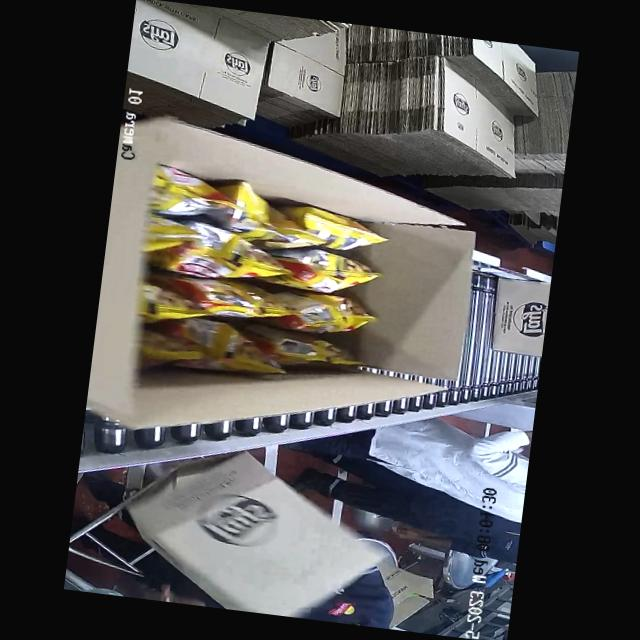salted: (152, 185, 368, 367)
